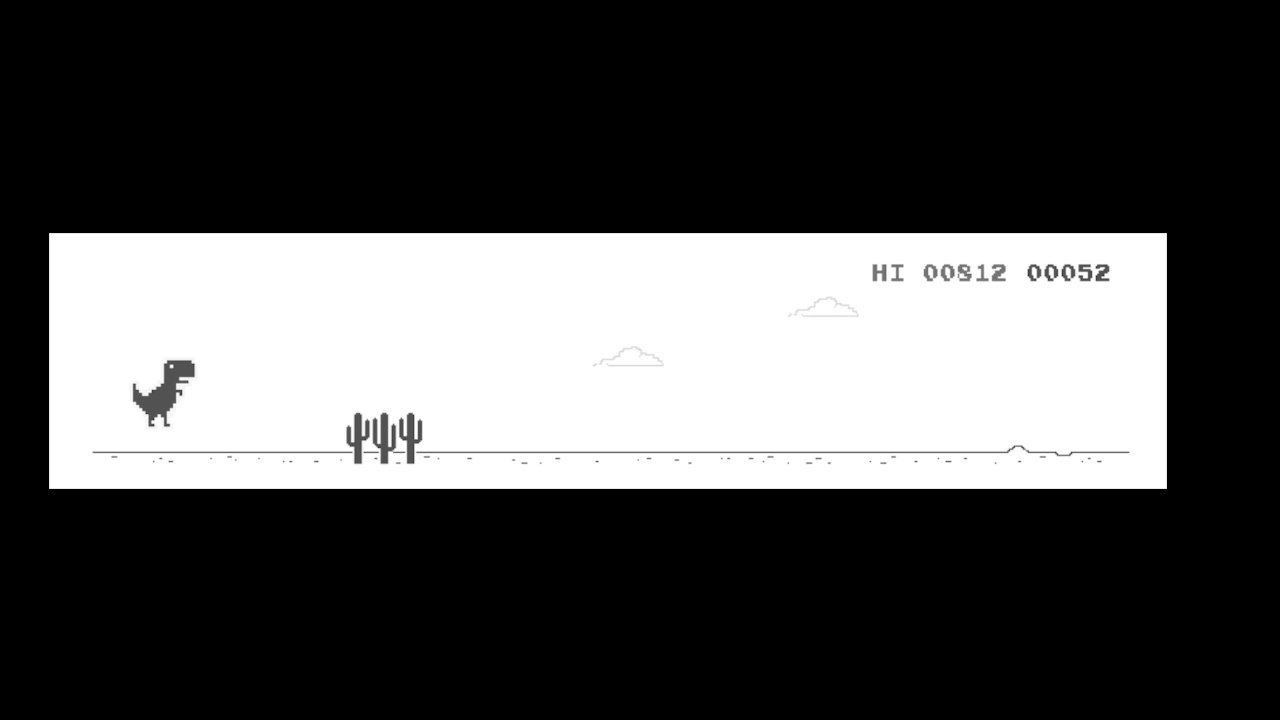dino: (133, 351, 194, 426)
small3: (344, 409, 424, 467)
